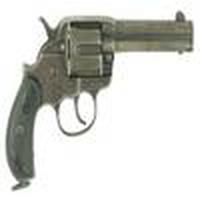gun: (3, 12, 198, 198)
